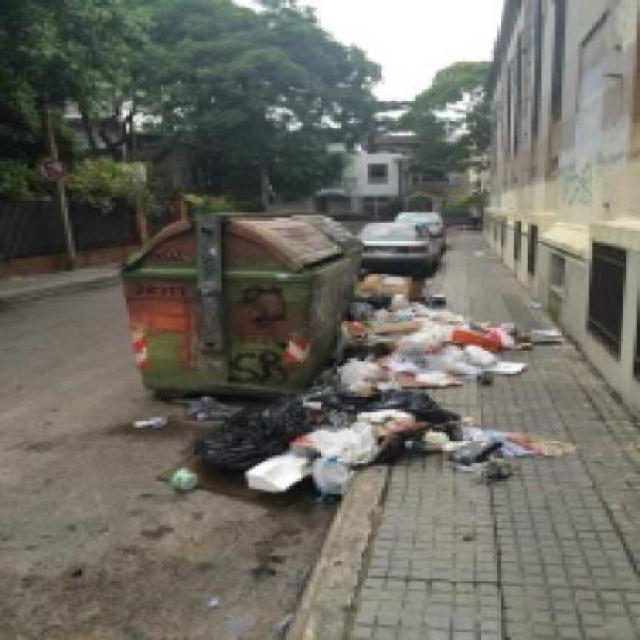garbage: (351, 269, 535, 484), (180, 389, 361, 499)
